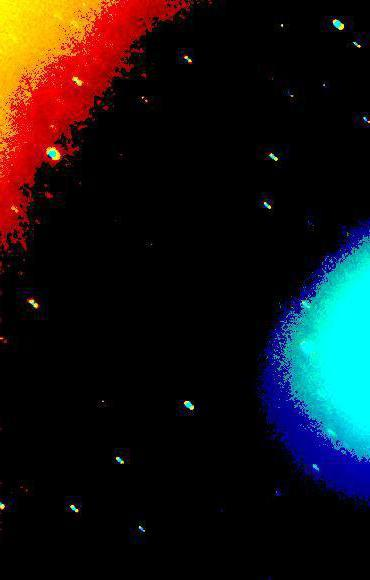star: (237, 15, 267, 45)
